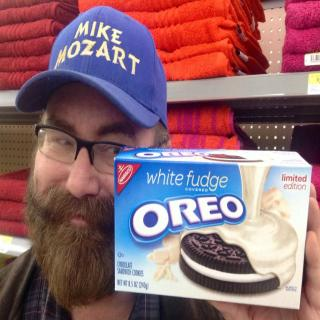Cookie: (178, 231, 284, 292)
